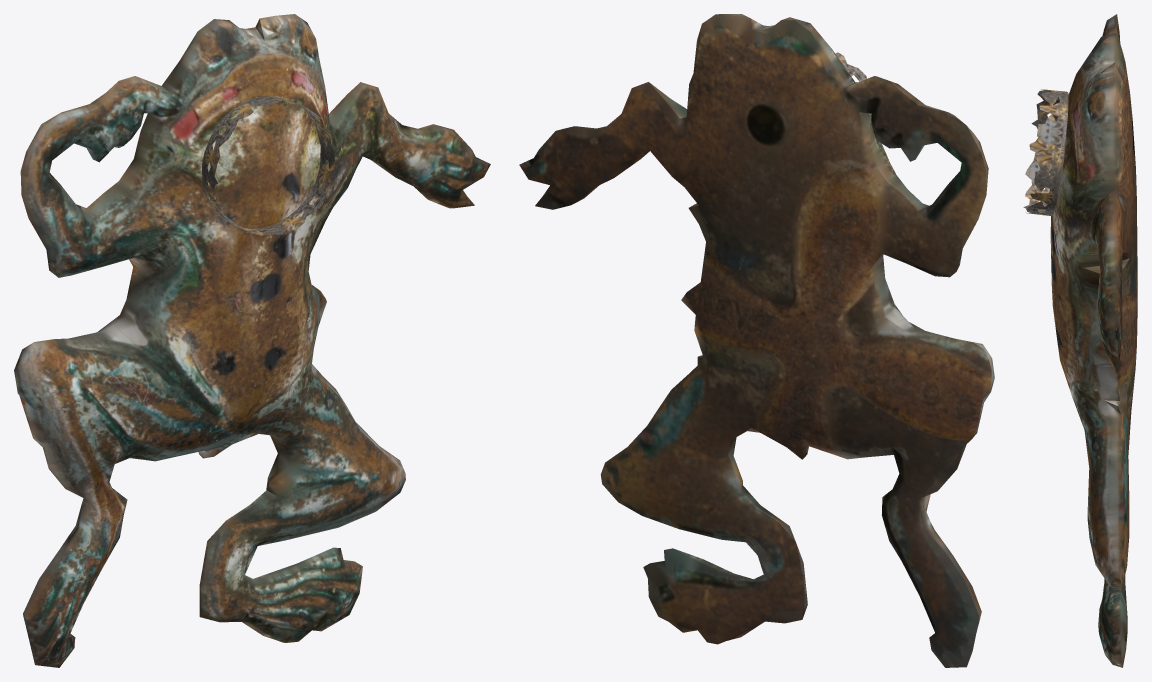
Rendered from Froschkoenig_v3.glb.
The picture shows the model from 3 angles, left to right: view 1: azimuth 30°, elevation 25°; view 2: azimuth 150°, elevation 25°; view 3: azimuth 270°, elevation 25°; orthographic projection. The views are drawn at different scales.
Visible parts, largest first — view 1: Froschkoenig_v3_optimized; view 2: Froschkoenig_v3_optimized; view 3: Froschkoenig_v3_optimized.
Part boxes in pixels (box(x1,y1,x2,y2)): Froschkoenig_v3_optimized: box(14, 14, 490, 667); Froschkoenig_v3_optimized: box(519, 14, 994, 667); Froschkoenig_v3_optimized: box(1023, 14, 1137, 667).
Size of the model in its own units: 0.0347 by 0.045 by 0.00794.
1 material, 1 textured.
